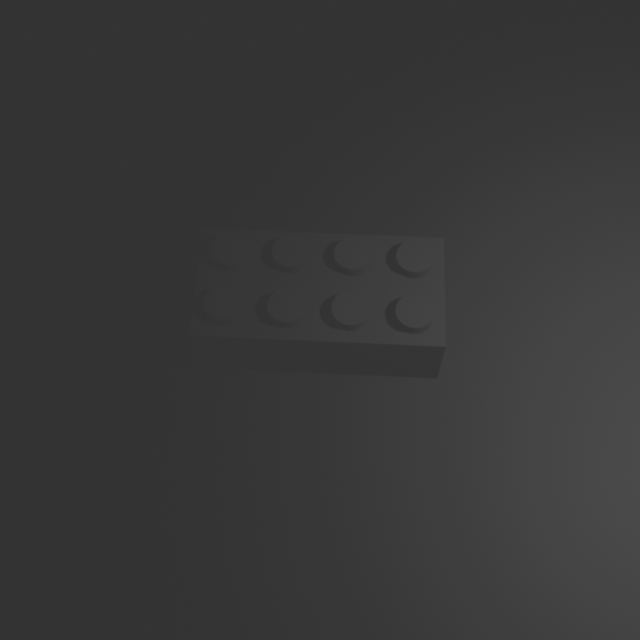lego_2x4: (187, 221, 448, 378)
